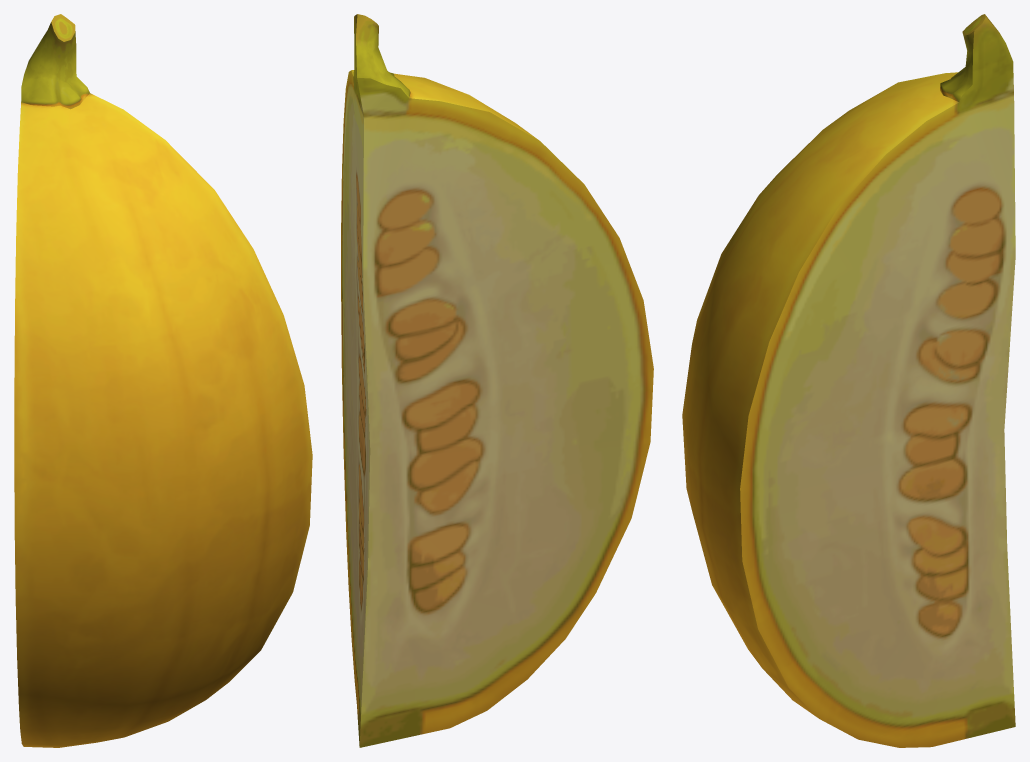
File: SM_HoneydewMelonSlice.fbx
3 renders of one model, left to right at view 1: azimuth 30°, elevation 25°; view 2: azimuth 150°, elevation 25°; view 3: azimuth 270°, elevation 25°, orthographic. The views are drawn at different scales.
Visible parts, largest first — view 1: SM_HoneydewMelonSlice; view 2: SM_HoneydewMelonSlice; view 3: SM_HoneydewMelonSlice.
Part boxes in pixels (x1=…): SM_HoneydewMelonSlice: x1=14, y1=14, x2=312, y2=747; SM_HoneydewMelonSlice: x1=341, y1=14, x2=653, y2=747; SM_HoneydewMelonSlice: x1=682, y1=14, x2=1015, y2=747.
Bounding box in the file's own units: 14.63 × 32.3 × 13.58.
